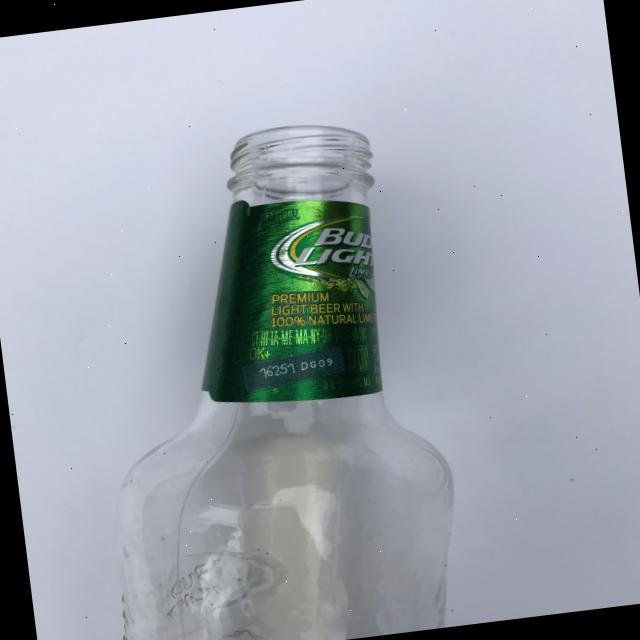glass: (60, 109, 472, 640)
